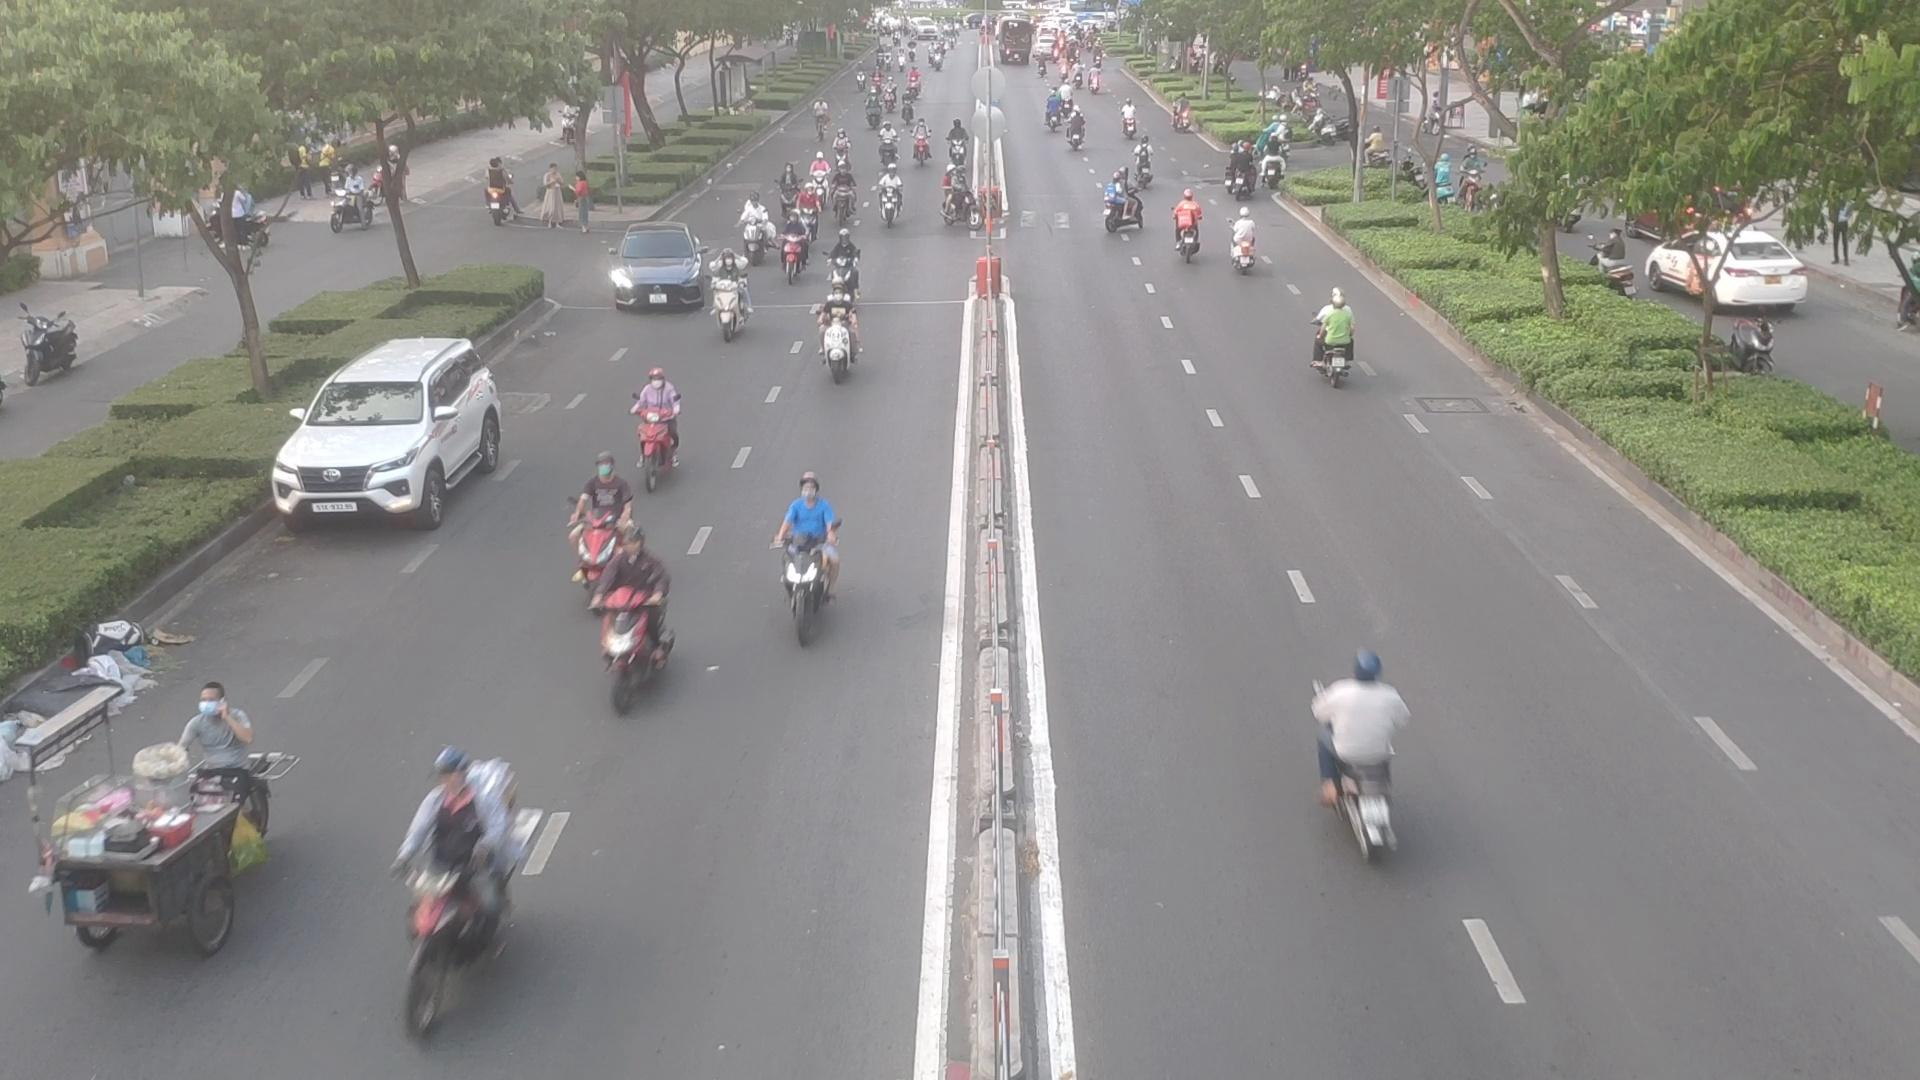car: (280, 338, 518, 531), (603, 229, 717, 311)
motorbike: (394, 746, 535, 994), (1304, 650, 1419, 852), (177, 692, 290, 852), (585, 518, 676, 702), (769, 469, 855, 637), (622, 372, 690, 477), (1299, 294, 1364, 386), (812, 287, 866, 375), (709, 277, 756, 343), (940, 170, 985, 233), (1224, 144, 1267, 200), (1098, 182, 1142, 237), (1170, 196, 1207, 261), (827, 232, 862, 297), (1230, 214, 1267, 274), (785, 216, 818, 280), (737, 207, 773, 264), (872, 173, 905, 227), (1131, 142, 1162, 189), (831, 171, 858, 222), (808, 148, 829, 207), (771, 160, 795, 208), (1064, 113, 1091, 152), (913, 127, 938, 165), (947, 121, 971, 160), (876, 127, 899, 165), (831, 128, 852, 169), (796, 189, 819, 227)
